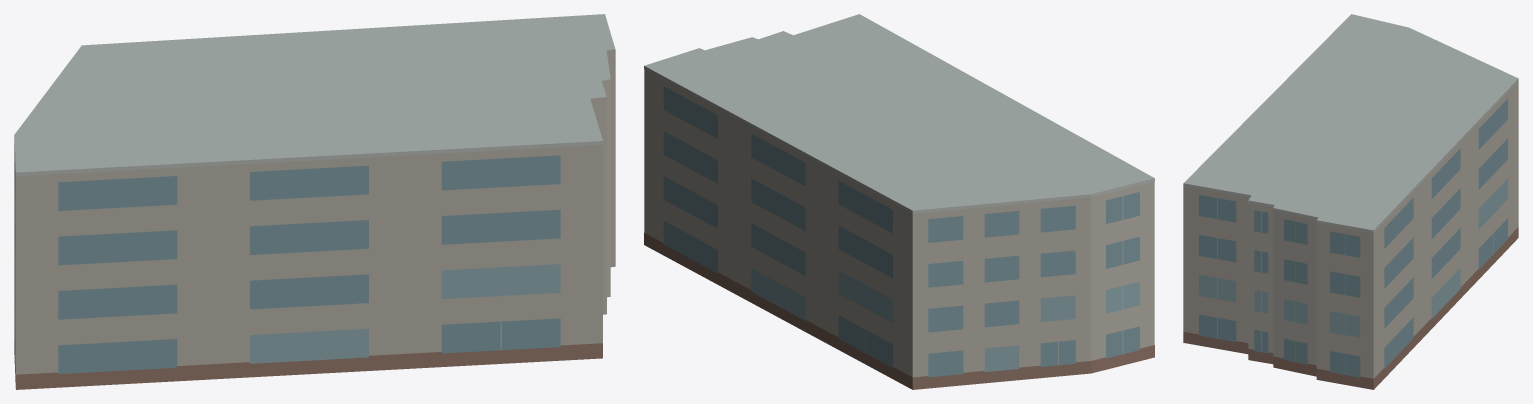
The model's file is survey-upis-32492372.glb.
3 views of the same model, side by side, from view 1: azimuth 30°, elevation 25°; view 2: azimuth 150°, elevation 25°; view 3: azimuth 270°, elevation 25° (orthographic). The views are drawn at different scales.
Visible parts, largest first — view 1: survey-upis-32492372.tmp; view 2: survey-upis-32492372.tmp; view 3: survey-upis-32492372.tmp.
Boxes of the visible parts, x1,y1,x2,y2 form: survey-upis-32492372.tmp: [14, 14, 615, 389]; survey-upis-32492372.tmp: [644, 14, 1154, 389]; survey-upis-32492372.tmp: [1183, 14, 1518, 389].
Size of the model in its own units: 39.86 by 13.7 by 26.09.
